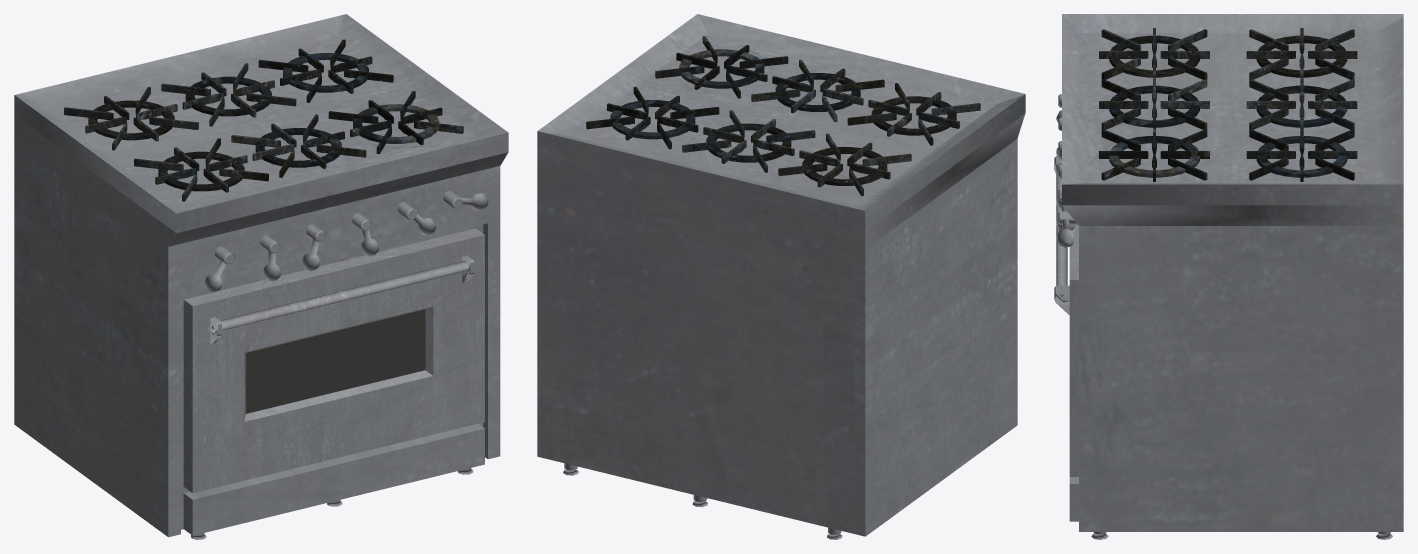
The model's file is BJW_KitchenStove_02.fbx.
The picture shows the model from 3 angles, left to right: view 1: azimuth 30°, elevation 25°; view 2: azimuth 150°, elevation 25°; view 3: azimuth 270°, elevation 25°; orthographic projection. The views are drawn at different scales.
Visible parts, largest first — view 1: KitchenStove_01_001; view 2: KitchenStove_01_001; view 3: KitchenStove_01_001.
Part boxes in pixels (x1=…): KitchenStove_01_001: x1=14, y1=14, x2=508, y2=539; KitchenStove_01_001: x1=537, y1=14, x2=1025, y2=539; KitchenStove_01_001: x1=1054, y1=14, x2=1403, y2=539.
Bounding box in the file's own units: 106 × 106 × 92.
